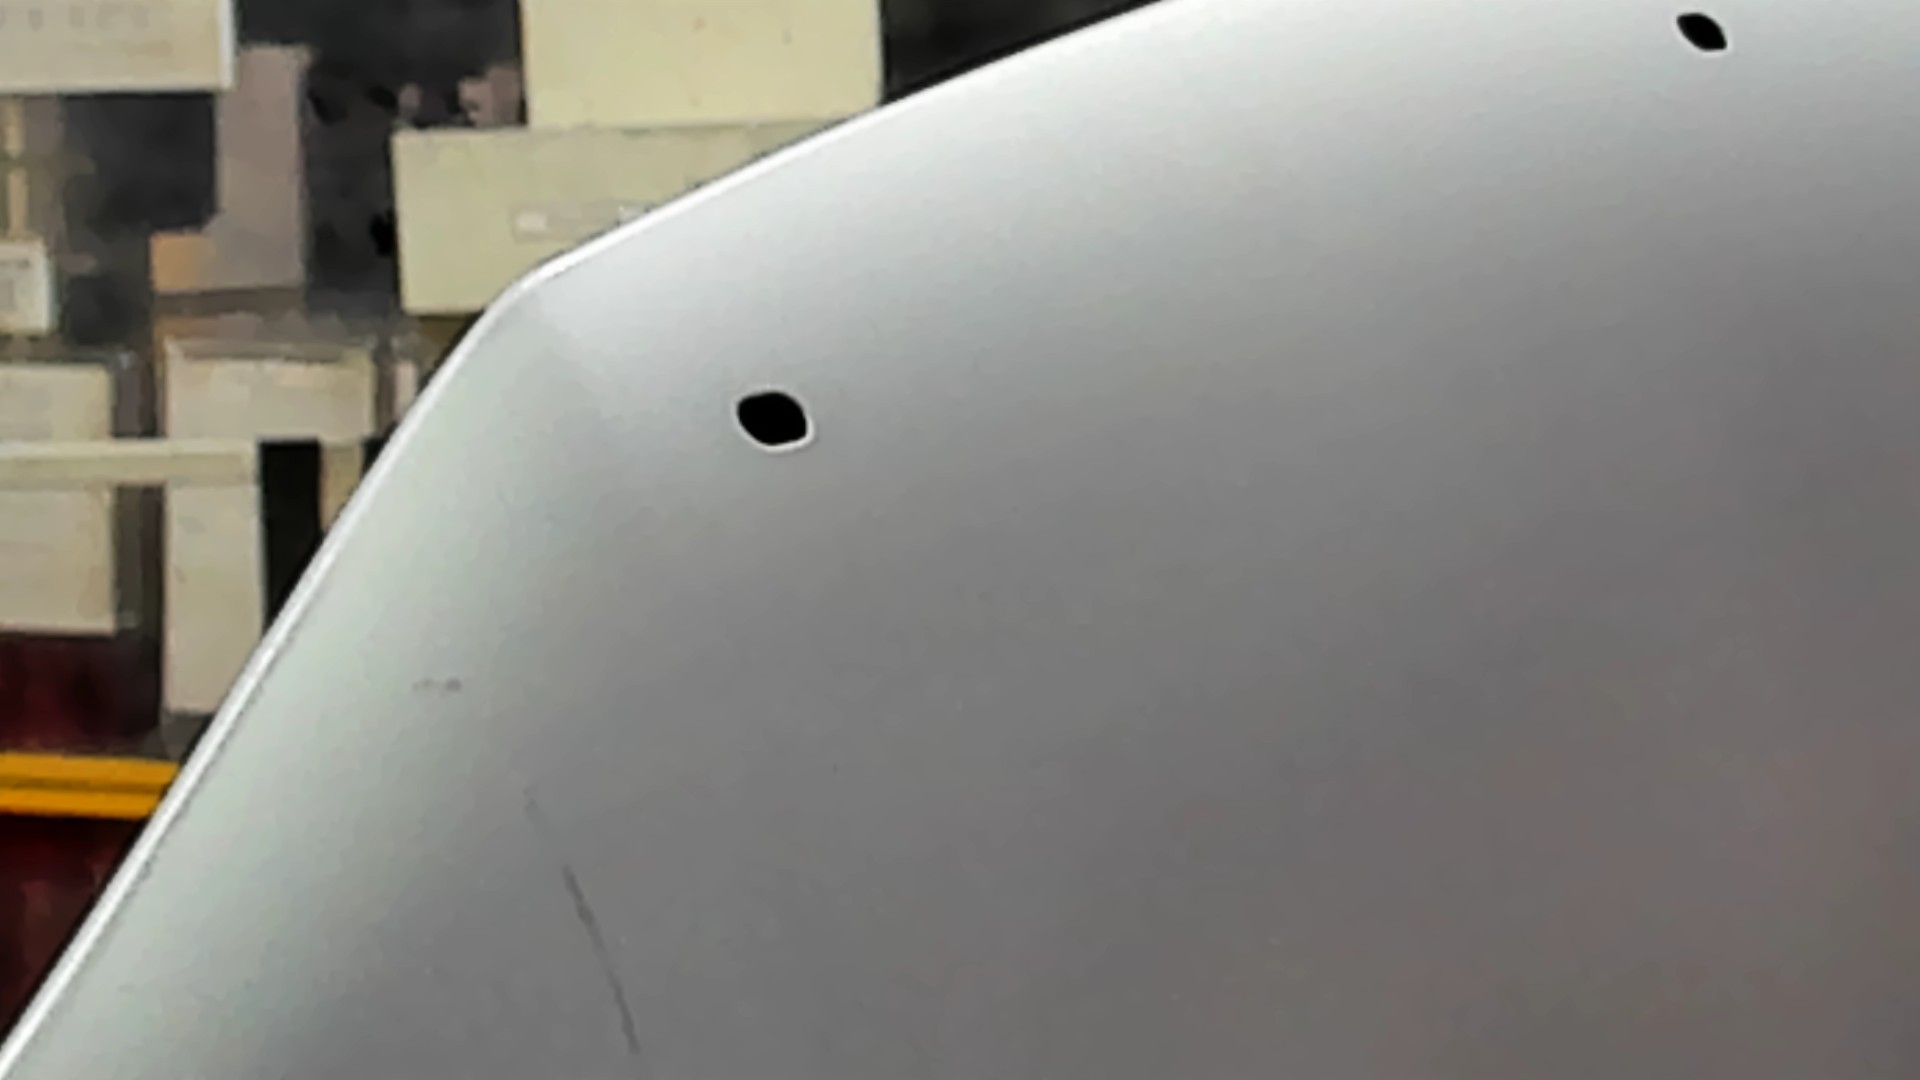amorfo: (731, 382, 819, 454), (1669, 9, 1734, 59)
